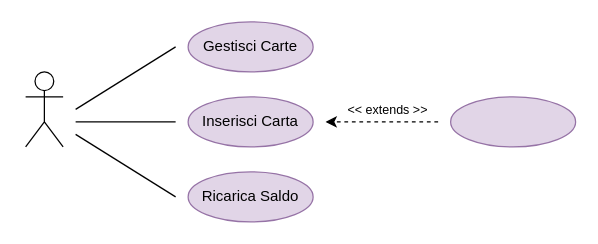
This 598x244 diagram has some shape labels left out. Here are the shapes that lost their labels. From the top down, the box of each, then its label:
(24, 71, 63, 147): Cliente
(449, 96, 576, 147): Errore Inserisci Carta
